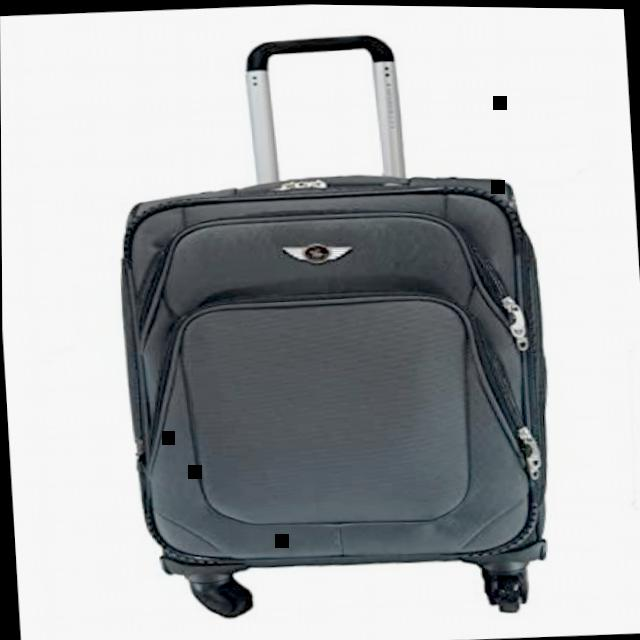luggage: (104, 153, 574, 599)
